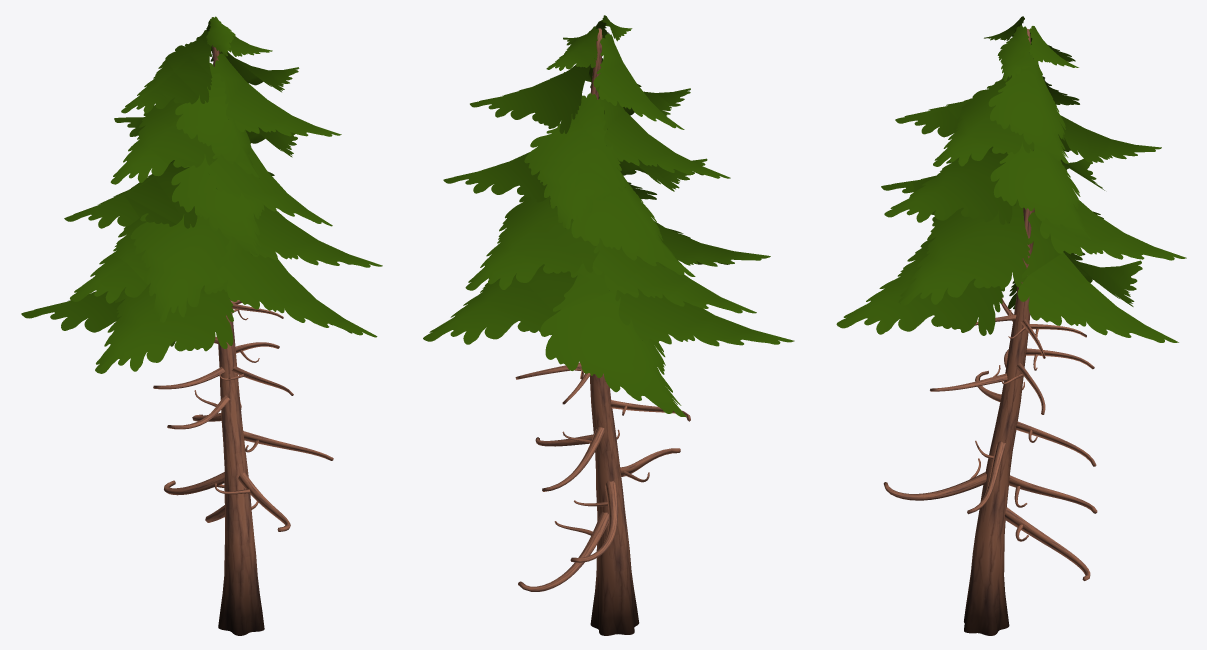
File: Pine_3.gltf
The picture shows the model from 3 angles, left to right: view 1: azimuth 30°, elevation 25°; view 2: azimuth 150°, elevation 25°; view 3: azimuth 270°, elevation 25°; orthographic projection. The views are drawn at different scales.
Visible parts, largest first — view 1: Pine_3; view 2: Pine_3; view 3: Pine_3.
Boxes of the visible parts, <box> form: Pine_3: <box>21,16,382,635</box>; Pine_3: <box>423,15,794,635</box>; Pine_3: <box>836,16,1186,635</box>.
Size of the model in its own units: 3.61 by 7.39 by 4.
Materials: 2 (2 with a texture image).
